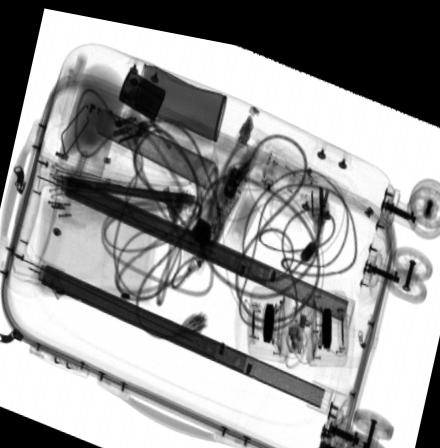Lighter: (117, 63, 165, 114)
